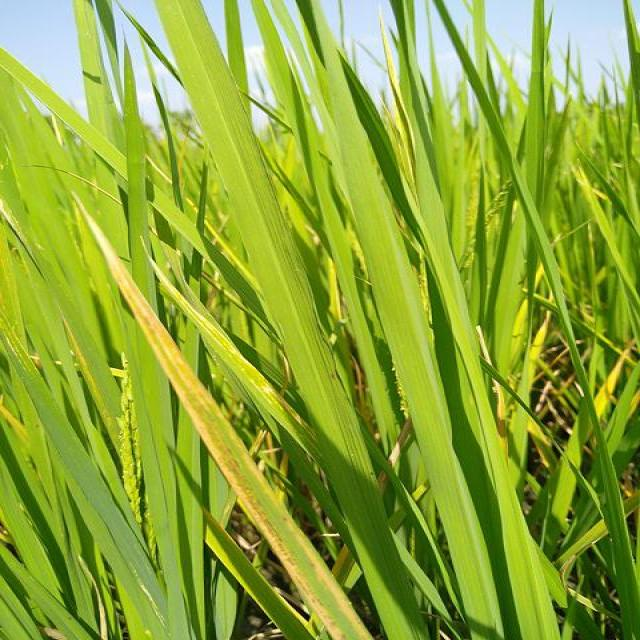Leaf Streak: (76, 197, 376, 639), (151, 259, 321, 464)
